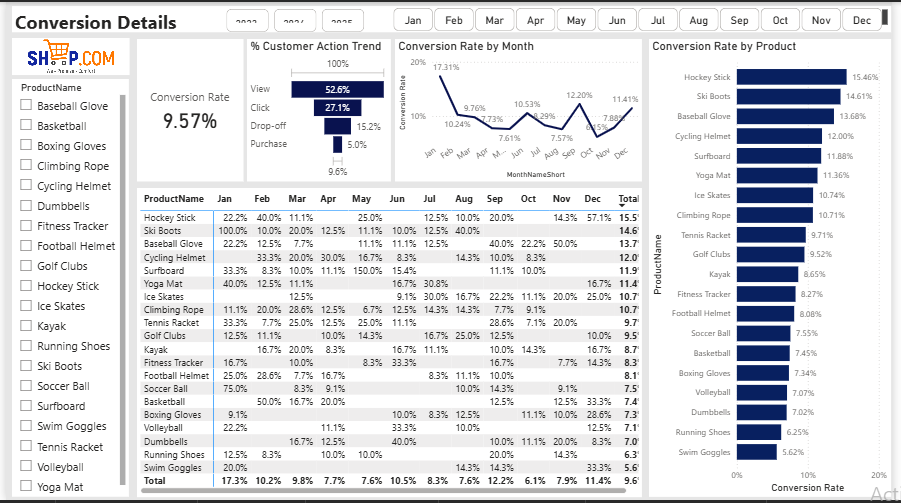

What the dashboard file says about the page in this screenshot:
{"tool":"powerbi","page":{"name":"Conversion Details","canvas":[1280,720],"ordinal":1},"visuals":[{"type":"textbox","box":[8.7,5.9,1270.9,37.8],"z":0},{"type":"advancedSlicerVisual","fields":{"Values":["Calendar.Year"]},"box":[313.8,9.5,206.3,38.6],"z":2000},{"type":"advancedSlicerVisual","fields":{"Values":["Calendar.MonthNameShort"]},"box":[555.5,9.1,717.3,38.6],"z":3000},{"type":"lineChart","title":"Conversion Rate by Month","fields":{"Y":["_Calculations.Conversion Rate"],"Category":["Calendar.MonthNameShort"]},"box":[562.6,52.9,357.4,206.5],"z":4000},{"type":"clusteredBarChart","title":"Conversion Rate by Product","fields":{"Category":["dim_products.ProductName"],"Y":["_Calculations.Conversion Rate"]},"box":[930.3,52.9,349.7,661.9],"z":5000},{"type":"pivotTable","fields":{"Values":["_Calculations.Conversion Rate"],"Rows":["dim_products.ProductName"],"Columns":["Calendar.MonthNameShort"]},"box":[189.4,268.9,730.1,446.7],"z":6000},{"type":"funnel","title":"% Customer Action Trend","fields":{"Y":["CountNonNull(fact_customer_journey.Action)"],"Category":["fact_customer_journey.Action"]},"box":[189.4,53.5,367.2,205.3],"z":7000},{"type":"slicer","fields":{"Values":["dim_products.ProductName"]},"box":[8.8,111.8,169.4,603.5],"z":8000},{"type":"actionButton","box":[8.8,51.8,170,53.5],"z":9000}]}

Visuals, with their boxes in screenshot pixels (x1, y1, x2, y2), scaled from the page's 1280x720 canvas onto the 901x503 screenshot:
textbox: region(6, 4, 900, 31)
advancedSlicerVisual - Calendar.Year: region(221, 7, 366, 34)
advancedSlicerVisual - Calendar.MonthNameShort: region(391, 6, 896, 33)
"Conversion Rate by Month" lineChart: region(396, 37, 648, 181)
"Conversion Rate by Product" clusteredBarChart: region(655, 37, 900, 499)
pivotTable - _Calculations.Conversion Rate x dim_products.ProductName: region(133, 188, 647, 500)
"% Customer Action Trend" funnel: region(133, 37, 392, 181)
slicer - dim_products.ProductName: region(6, 78, 125, 500)
actionButton: region(6, 36, 126, 74)
